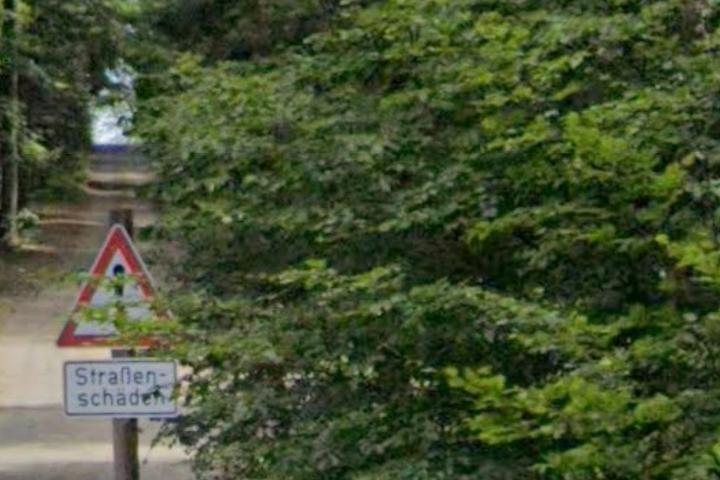traffic_sign: (50, 220, 189, 351)
